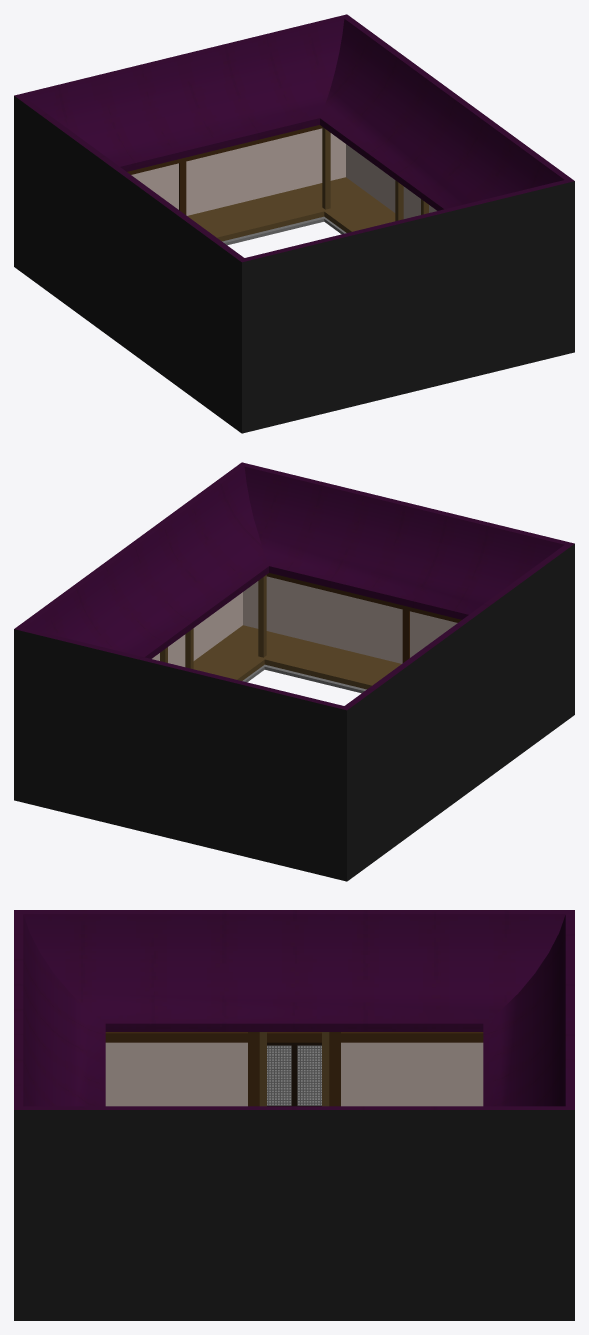
The model's file is courtyard.glb.
The picture shows the model from 3 angles, top to bottom: view 1: azimuth 30°, elevation 25°; view 2: azimuth 150°, elevation 25°; view 3: azimuth 270°, elevation 25°; orthographic projection. The views are drawn at different scales.
Visible parts, largest first — view 1: EnvironmentBorder4, Roof, Wall, GardenWalkway, Pillar5, GardenBorder; view 2: EnvironmentBorder4, Roof, Wall, GardenWalkway, Pillar6, GardenBorder; view 3: EnvironmentBorder4, Roof, Wall, Door1, Pillar3, Pillar4.
Boxes of the visible parts, <box> form: EnvironmentBorder4: <box>14,96,574,433</box>; Roof: <box>14,14,574,262</box>; Wall: <box>127,125,436,218</box>; GardenWalkway: <box>187,177,395,241</box>; Pillar5: <box>322,127,330,209</box>; GardenBorder: <box>222,216,346,245</box>; EnvironmentBorder4: <box>14,544,574,881</box>; Roof: <box>14,462,574,710</box>; Wall: <box>152,573,461,666</box>; GardenWalkway: <box>193,625,401,689</box>; Pillar6: <box>258,575,266,657</box>; GardenBorder: <box>242,664,366,693</box>; EnvironmentBorder4: <box>14,1110,574,1320</box>; Roof: <box>14,910,574,1109</box>; Wall: <box>105,1032,483,1106</box>; Door1: <box>267,1042,321,1106</box>; Pillar3: <box>322,1032,329,1106</box>; Pillar4: <box>259,1032,266,1106</box>.
Size of the model in its own units: 18.07 by 8.88 by 21.41.
Materials: 9 (2 with a texture image).
